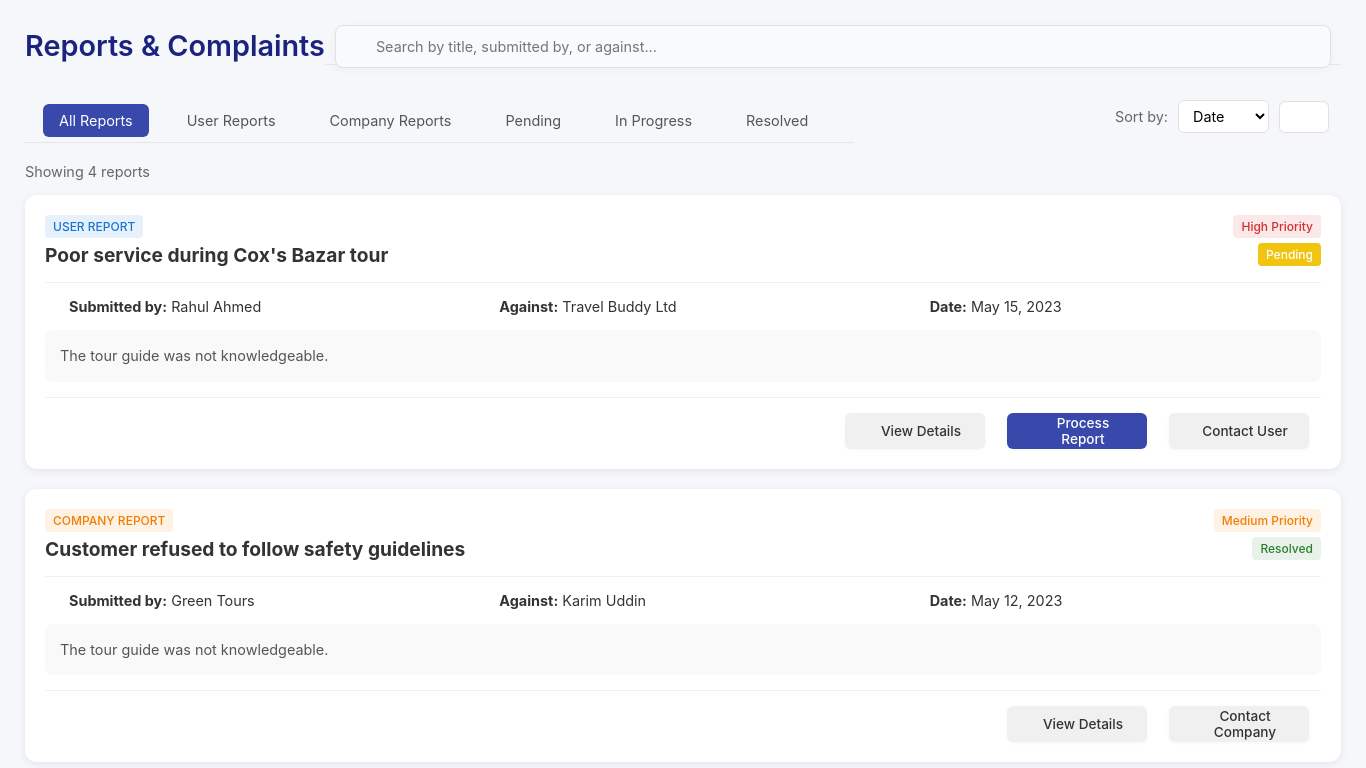
explains an empty result instead of rendering a blank page
Type "no report mentions this" into the field named "Search reports".
click(833, 46); type("no report mentions this")  # box [335, 25, 1331, 68]
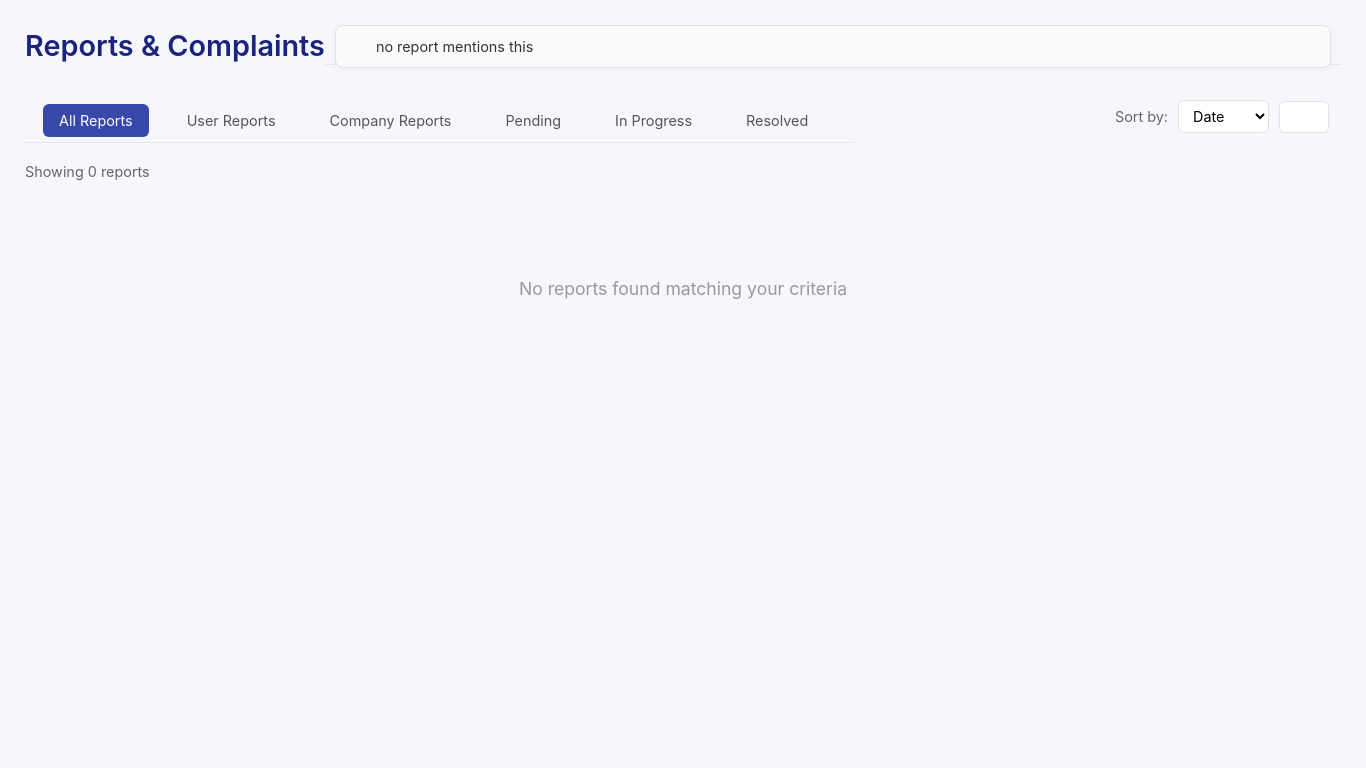
Expected: the text "No reports found matching your criteria" is shown, [519, 278, 847, 299]
